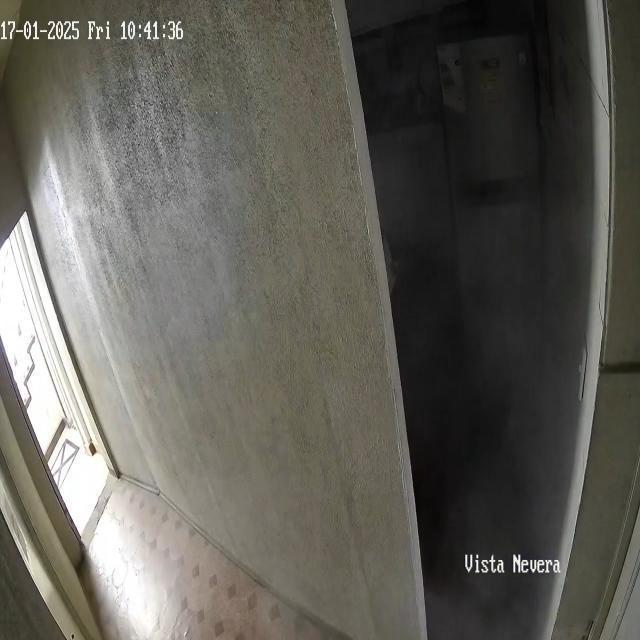fire: (415, 178, 590, 640)
